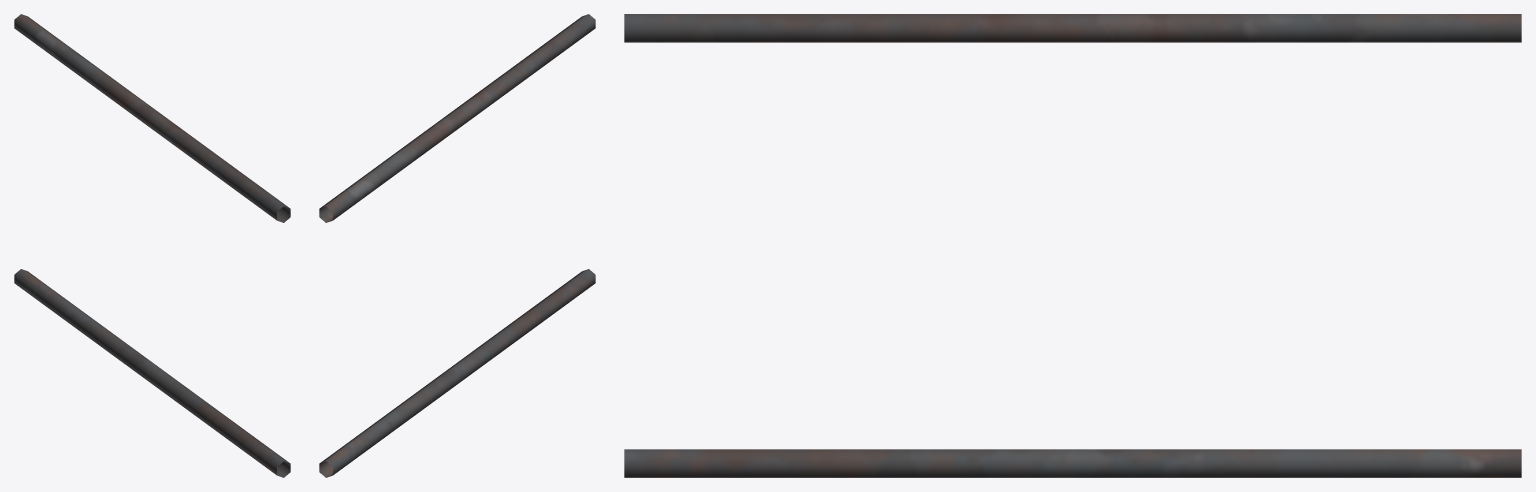
Rendered from Vent_Bar_B.fbx.
3 views of the same model, side by side, from view 1: azimuth 30°, elevation 25°; view 2: azimuth 150°, elevation 25°; view 3: azimuth 270°, elevation 25° (orthographic). The views are drawn at different scales.
Visible parts, largest first — view 1: Cylinder.001; view 2: Cylinder.001; view 3: Cylinder.001.
Boxes of the visible parts, x1,y1,x2,y2 form: Cylinder.001: [14, 14, 290, 477]; Cylinder.001: [319, 14, 595, 477]; Cylinder.001: [624, 14, 1521, 477].
Size of the model in its own units: 6.11 by 114 by 200.
